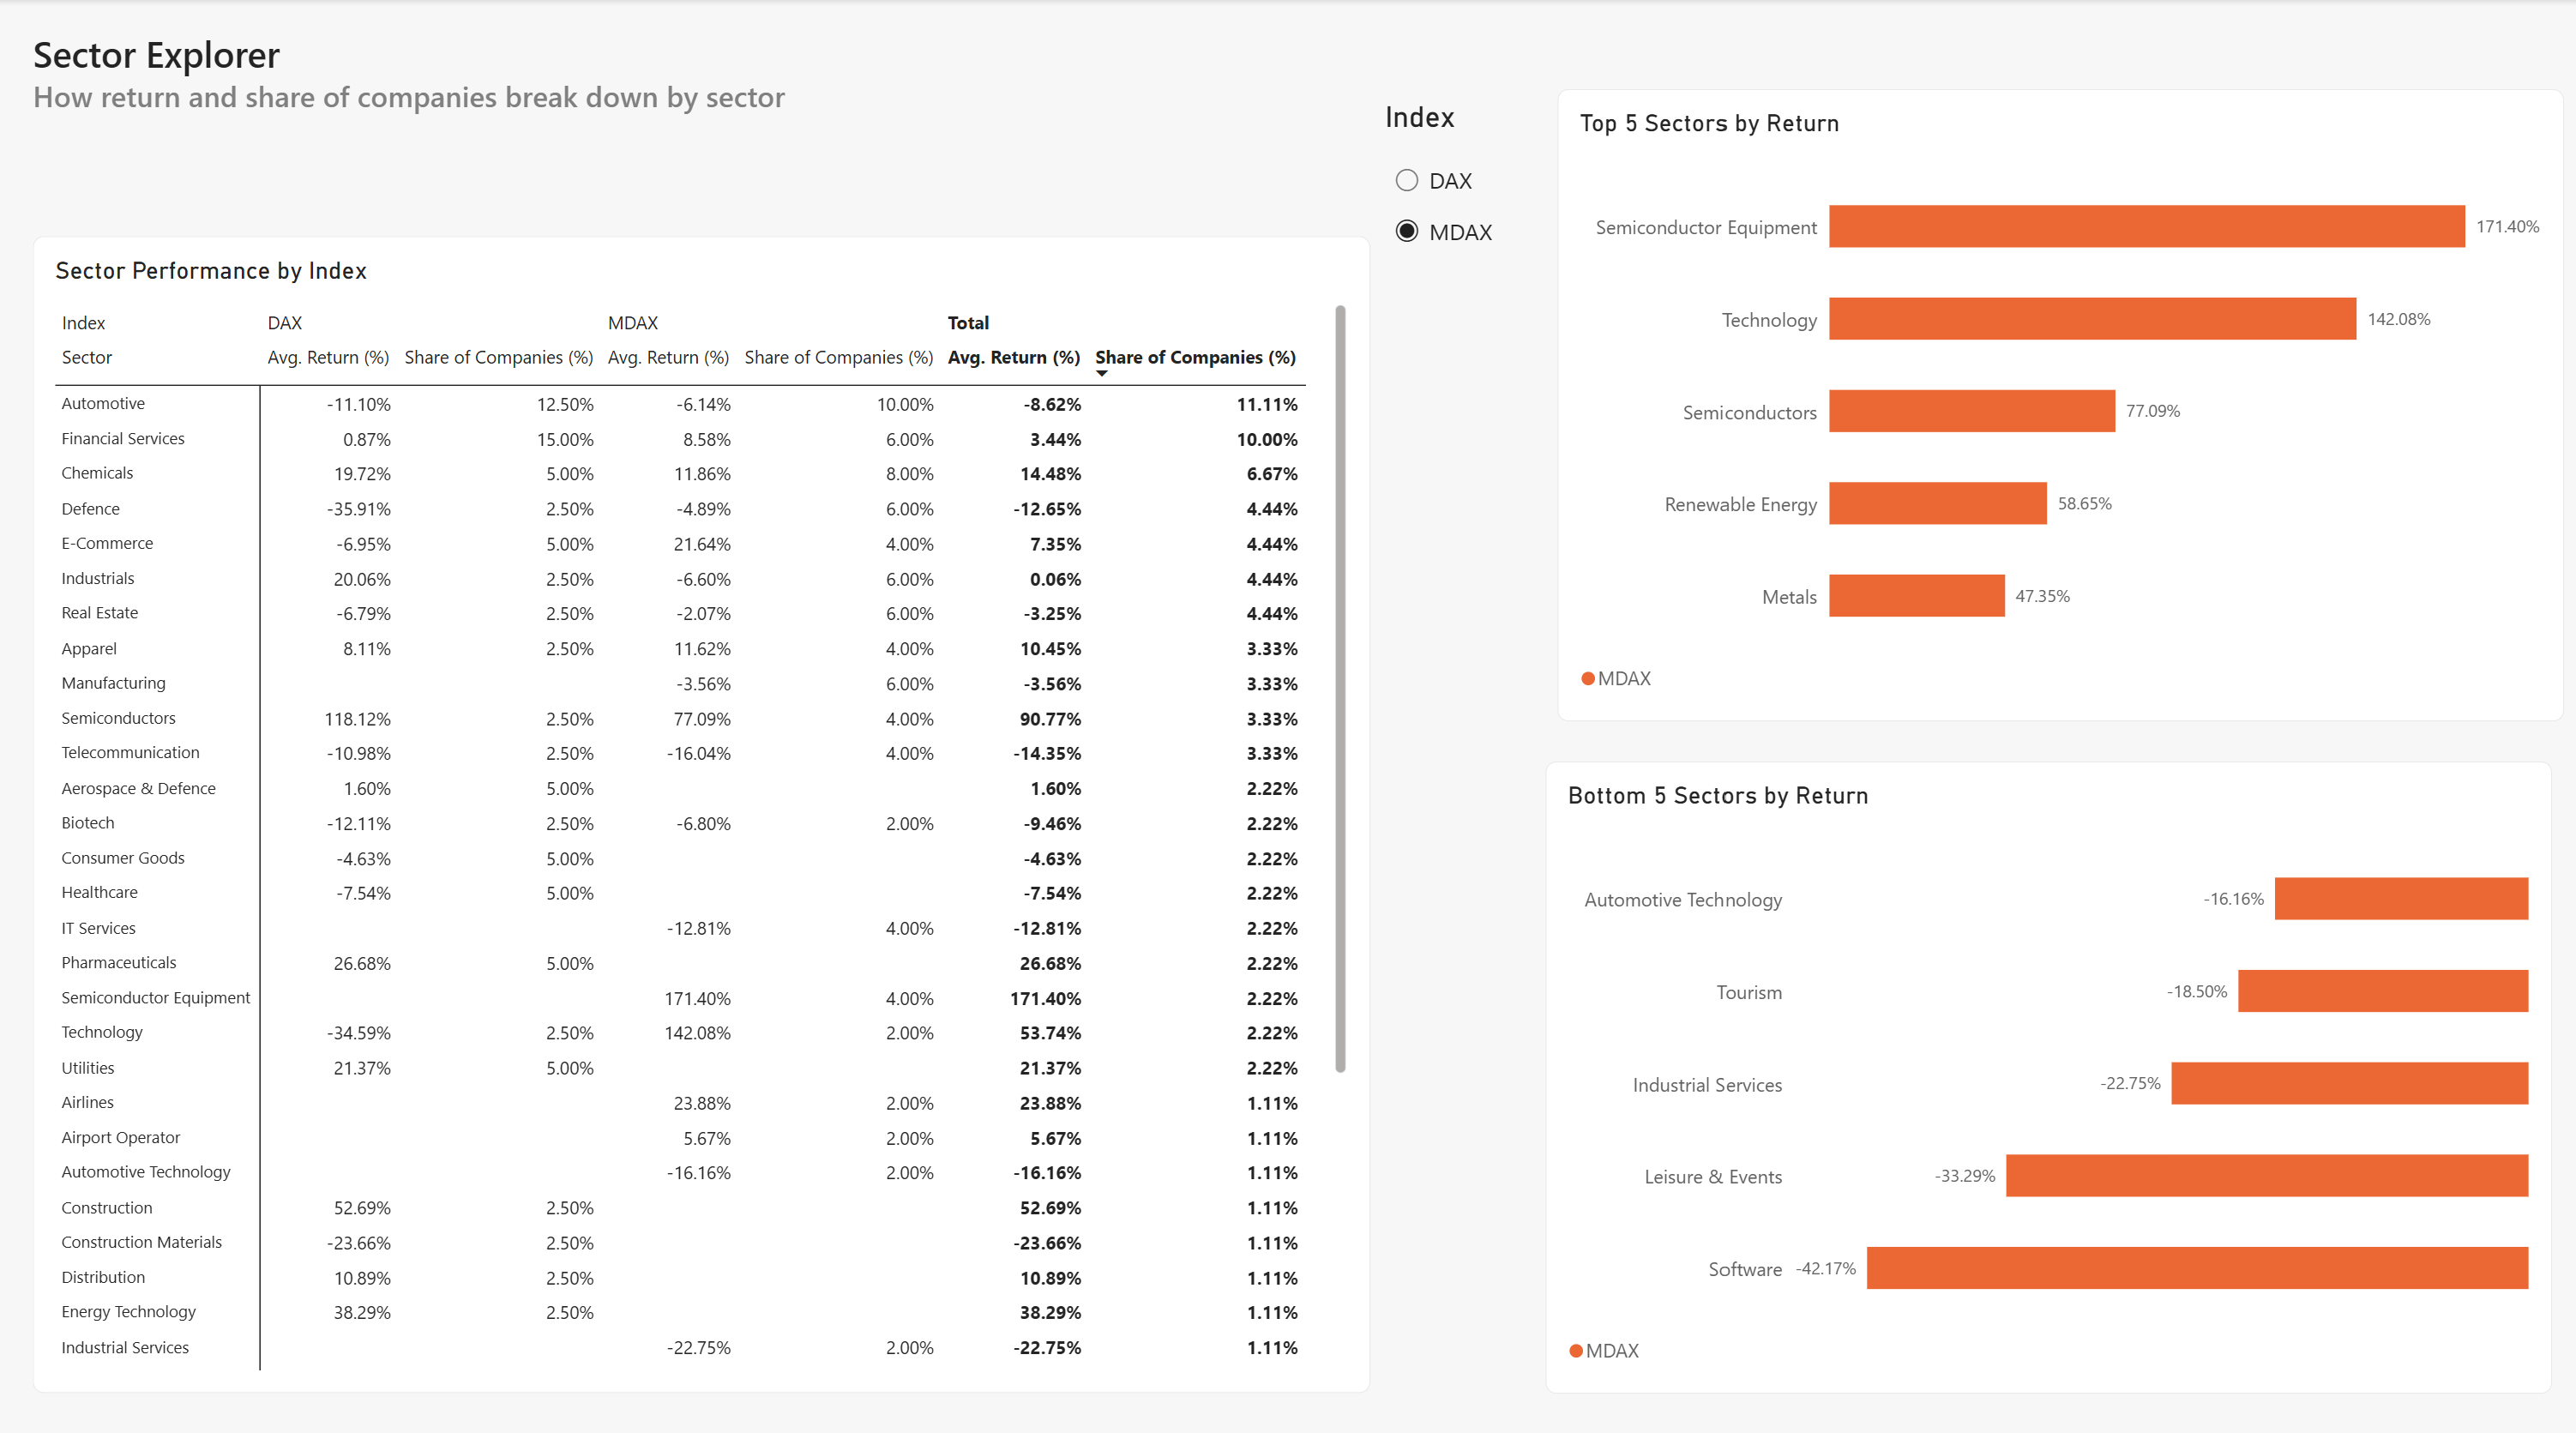

This screenshot's page, from the dashboard's own definition file:
{"tool":"powerbi","page":{"name":"Sector Explorer","canvas":[1920,1080],"ordinal":3},"visuals":[{"type":"clusteredBarChart","title":"Top 5 Sectors by Return","fields":{"Category":["Dim_Company.sector"],"Series":["Dim_Company.index_group"],"Y":["_Mesures.Ø Rendite (kontextabhängig)"]},"box":[1140,67,748.1,470.1],"z":4000},{"type":"clusteredBarChart","title":"Bottom 5 Sectors by Return","fields":{"Category":["Dim_Company.sector"],"Series":["Dim_Company.index_group"],"Y":["_Mesures.Ø Rendite (kontextabhängig)"]},"box":[1140,567.2,748.1,470.1],"z":5000},{"type":"pivotTable","title":"Sector Performance by Index","fields":{"Columns":["Dim_Company.index_group"],"Rows":["Dim_Company.sector"],"Values":["_Mesures.Ø Rendite (kontextabhängig)","_Mesures.Anzahl Unternehmen"]},"box":[50.2,163,941.2,874.2],"z":5001},{"type":"slicer","title":"Index","fields":{"Values":["Dim_Company.index_group"]},"box":[1020.5,67,119.2,122],"z":5002},{"type":"textbox","box":[24.1,22.7,513.6,89.4],"z":5003}]}

Visuals, with their boxes in screenshot pixels (x1, y1, x2, y2), scaled from the page's 1920x1080 canvas onto the 2576x1433 screenshot:
"Top 5 Sectors by Return" clusteredBarChart: 1530 89 2533 713
"Bottom 5 Sectors by Return" clusteredBarChart: 1530 753 2533 1376
"Sector Performance by Index" pivotTable: 68 216 1330 1376
"Index" slicer: 1369 89 1529 250
textbox: 33 30 721 148
